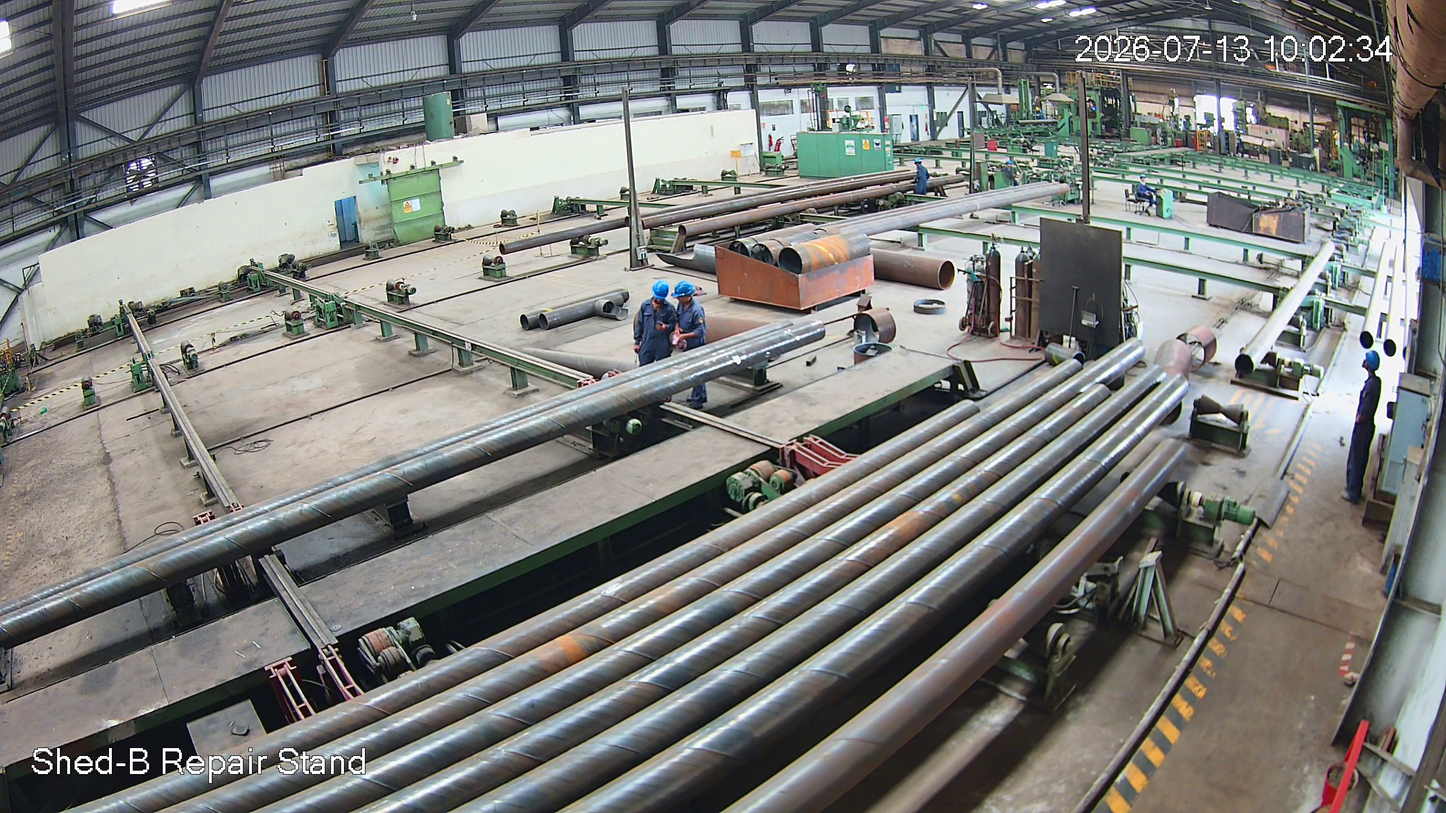Helmet: (1360, 349, 1383, 378), (670, 279, 695, 305), (651, 280, 670, 307)
Person: (1338, 352, 1388, 502), (673, 283, 712, 408), (630, 284, 678, 374)
